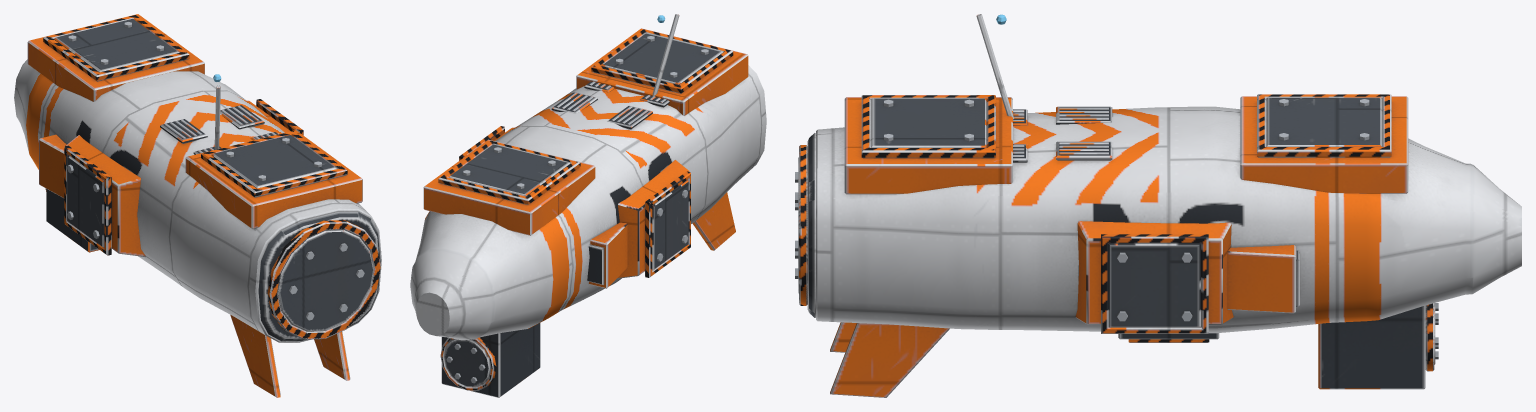
Rendered from casco_explorador_t2.fbx.
3 renders of one model, left to right at view 1: azimuth 30°, elevation 25°; view 2: azimuth 150°, elevation 25°; view 3: azimuth 270°, elevation 25°, orthographic. The views are drawn at different scales.
Visible parts, largest first — view 1: casco_explorador_t2; view 2: casco_explorador_t2; view 3: casco_explorador_t2.
Part boxes in pixels (<box>): casco_explorador_t2: <box>14,14,381,397</box>; casco_explorador_t2: <box>410,14,766,397</box>; casco_explorador_t2: <box>795,14,1521,397</box>.
Bounding box in the file's own units: 4.38 × 5.64 × 10.81.
